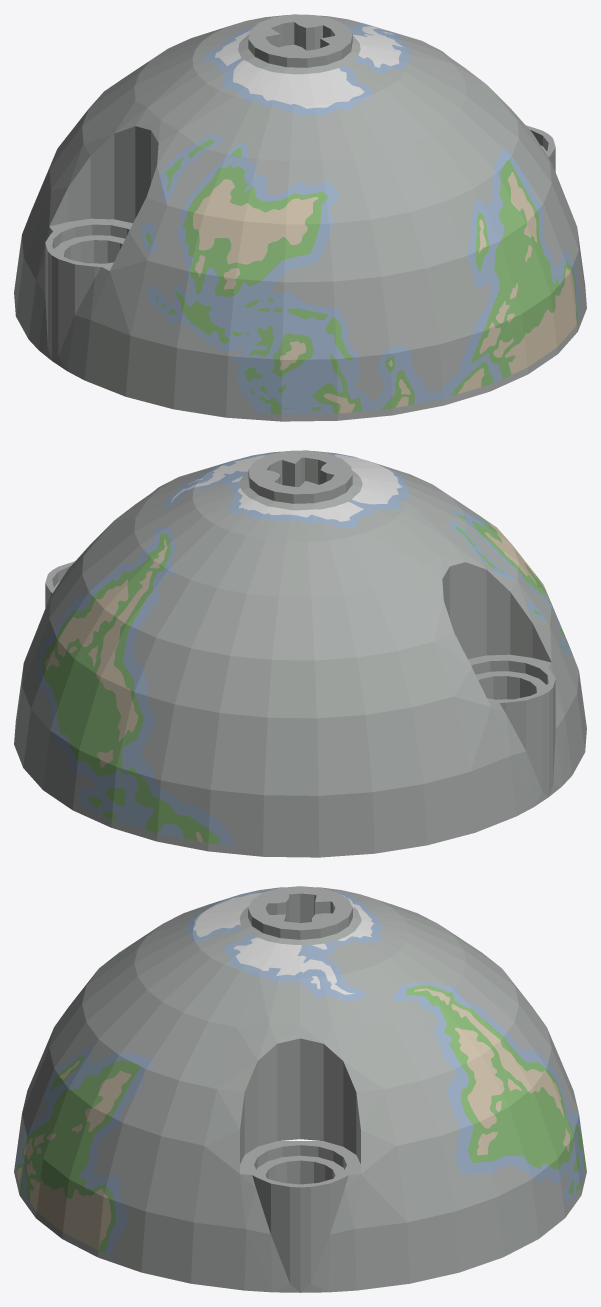
3 views of the same model, one above another, from view 1: azimuth 30°, elevation 25°; view 2: azimuth 150°, elevation 25°; view 3: azimuth 270°, elevation 25° (orthographic).
Visible parts, largest first — view 1: world; view 2: world; view 3: world.
Part boxes in pixels (x1,y1,x2,y2): world: (14, 14, 586, 421); world: (14, 450, 586, 857); world: (14, 886, 586, 1292).
Bounding box in the file's own units: 0.0394 × 0.02 × 0.0394.
